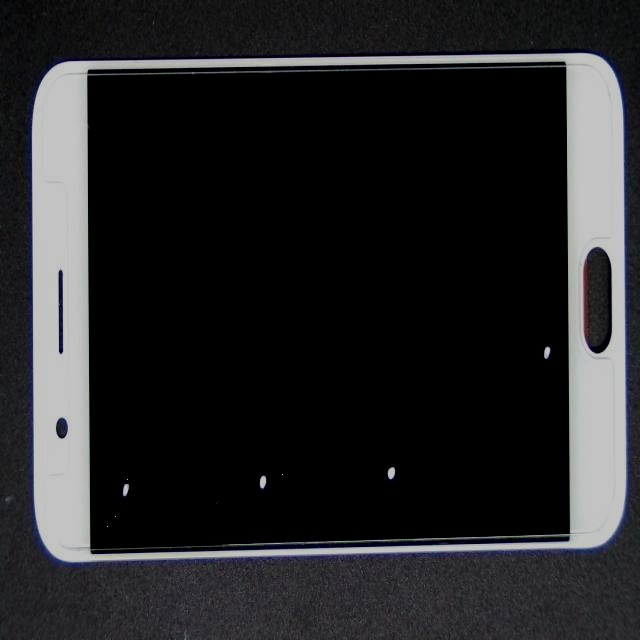stain: (183, 218, 555, 640), (266, 169, 640, 558), (80, 242, 369, 640), (54, 203, 161, 640)
